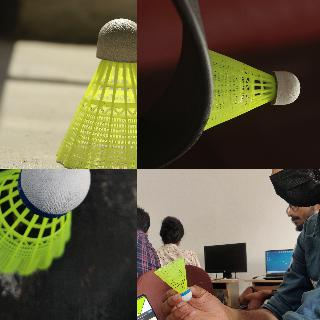shuttlecock: (56, 18, 136, 168), (0, 169, 91, 276), (208, 50, 300, 128), (152, 258, 192, 302)
